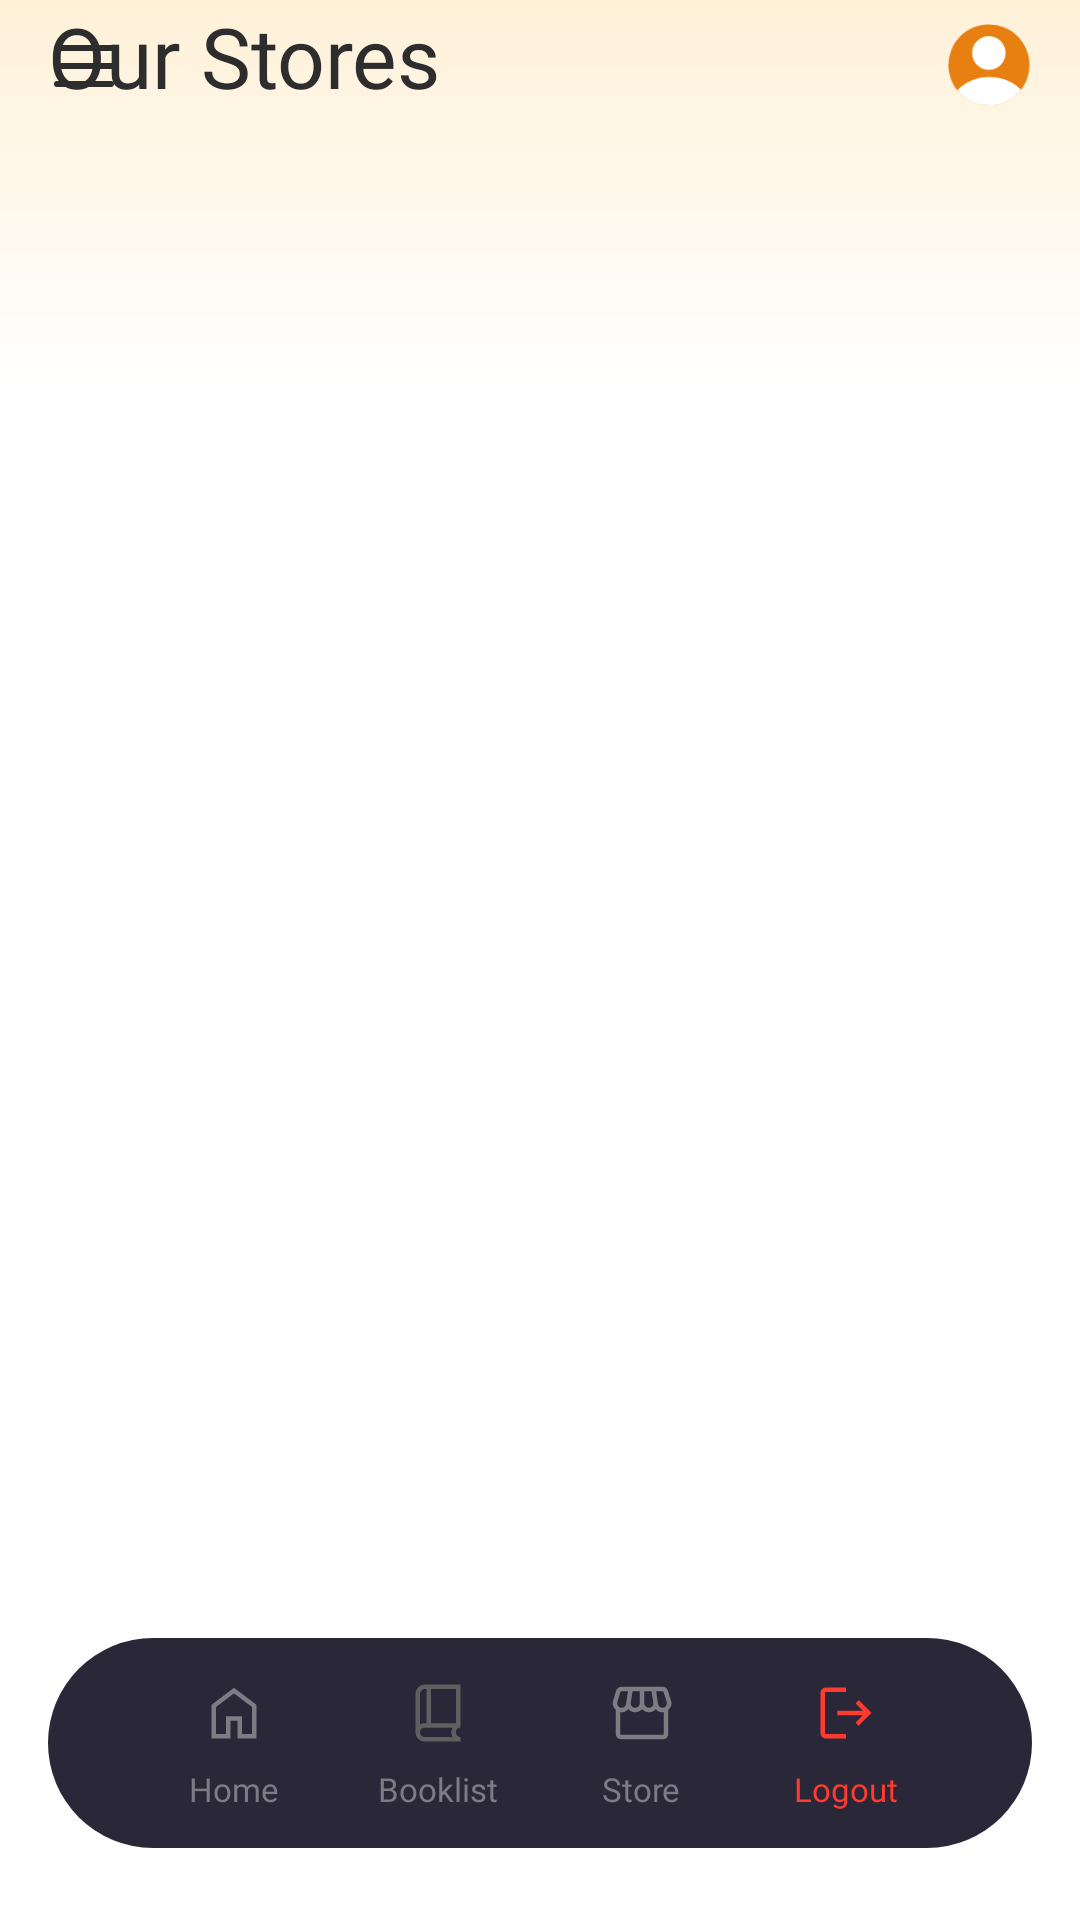

Screen size 1080 x 1920. Icon name, then its box in pixels as (x1, y1, x2, y2):
profile: (948, 24, 1030, 105)
